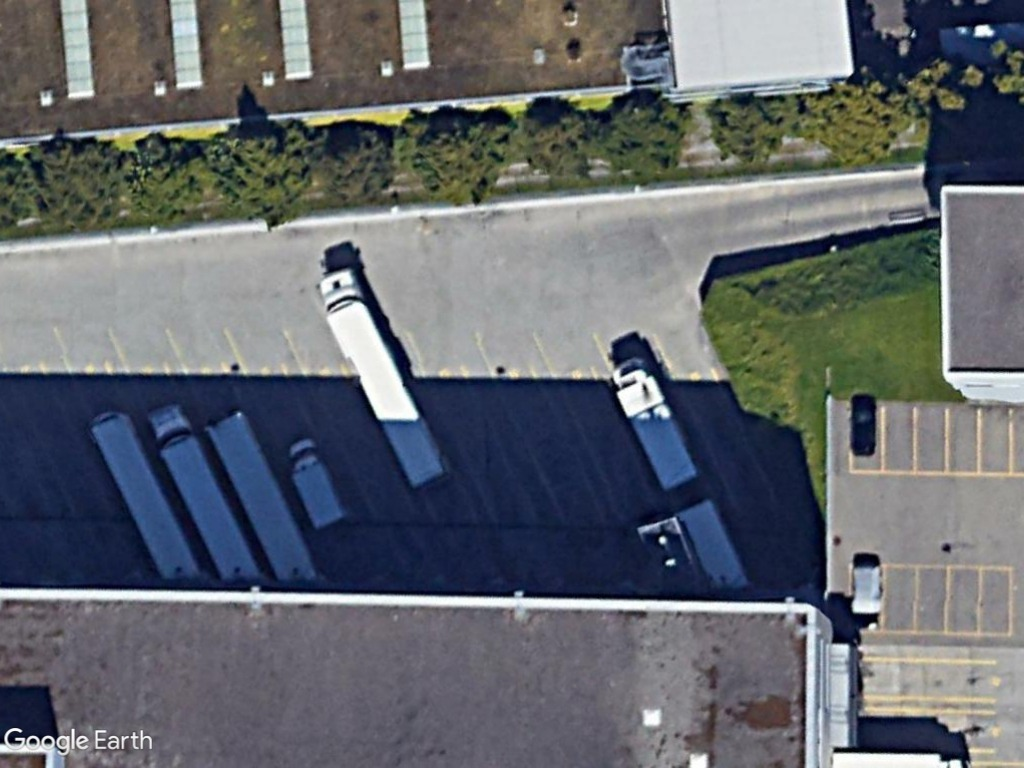longvehicle: (315, 268, 450, 490), (143, 405, 259, 586)
truck: (608, 355, 700, 496), (285, 438, 346, 532)
